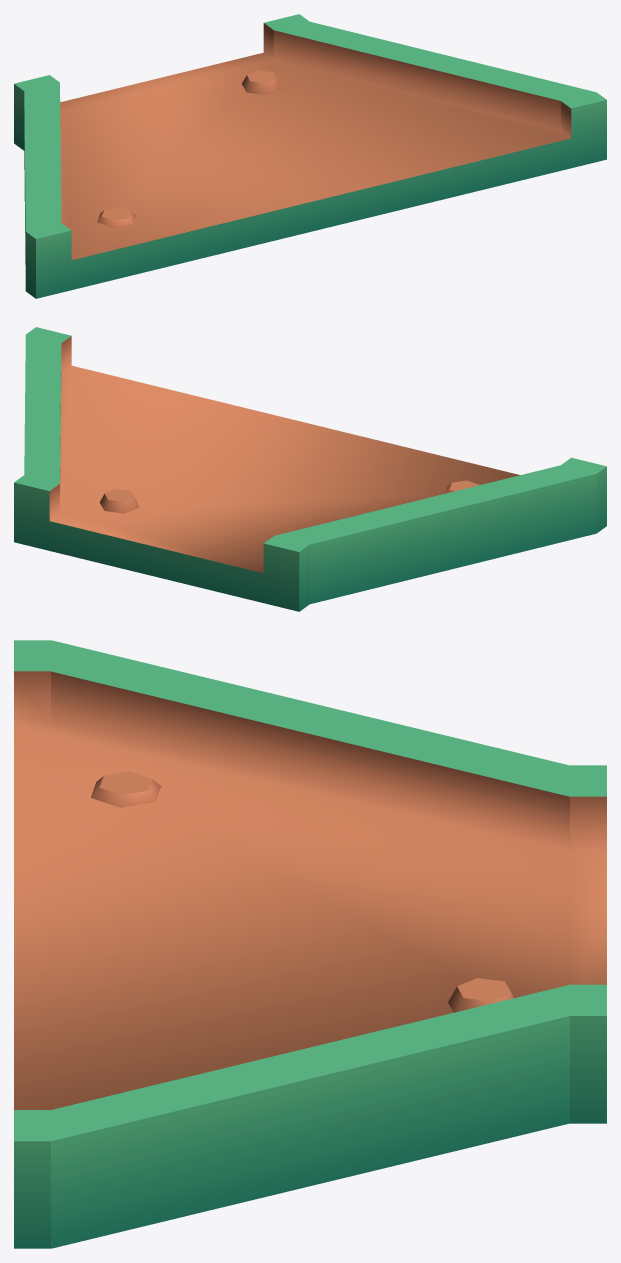
File: tile-wide-transition.glb
3 renders of one model, top to bottom at view 1: azimuth 30°, elevation 25°; view 2: azimuth 150°, elevation 25°; view 3: azimuth 270°, elevation 25°, orthographic. The views are drawn at different scales.
Visible parts, largest first — view 1: tile-wide-transition; view 2: tile-wide-transition; view 3: tile-wide-transition.
Part boxes in pixels (x1,y1,x2,y2): tile-wide-transition: [14, 14, 606, 298]; tile-wide-transition: [14, 327, 606, 611]; tile-wide-transition: [14, 640, 606, 1248].
Size of the model in its own units: 2 by 0.2 by 1.
Materials: 1 (1 with a texture image).
